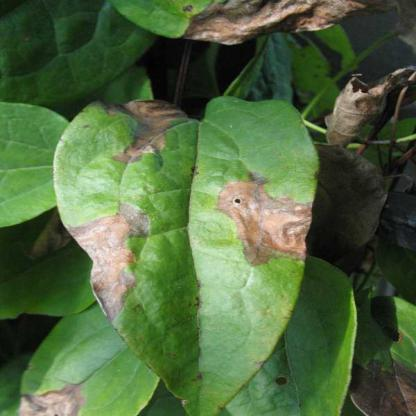Tomato leaf bacterial spot: (49, 89, 314, 412)
